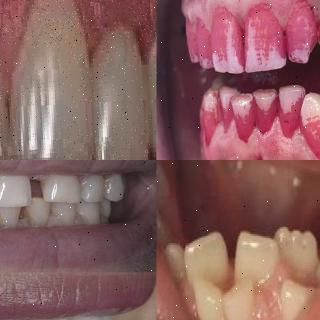Gum Swelling: (0, 0, 156, 66)
calculus: (0, 206, 12, 231)
maligned: (182, 228, 233, 282), (276, 219, 320, 275), (232, 222, 268, 282), (293, 88, 320, 160), (276, 278, 314, 320), (192, 272, 222, 320), (222, 278, 255, 320), (204, 87, 224, 151), (231, 90, 255, 140)
